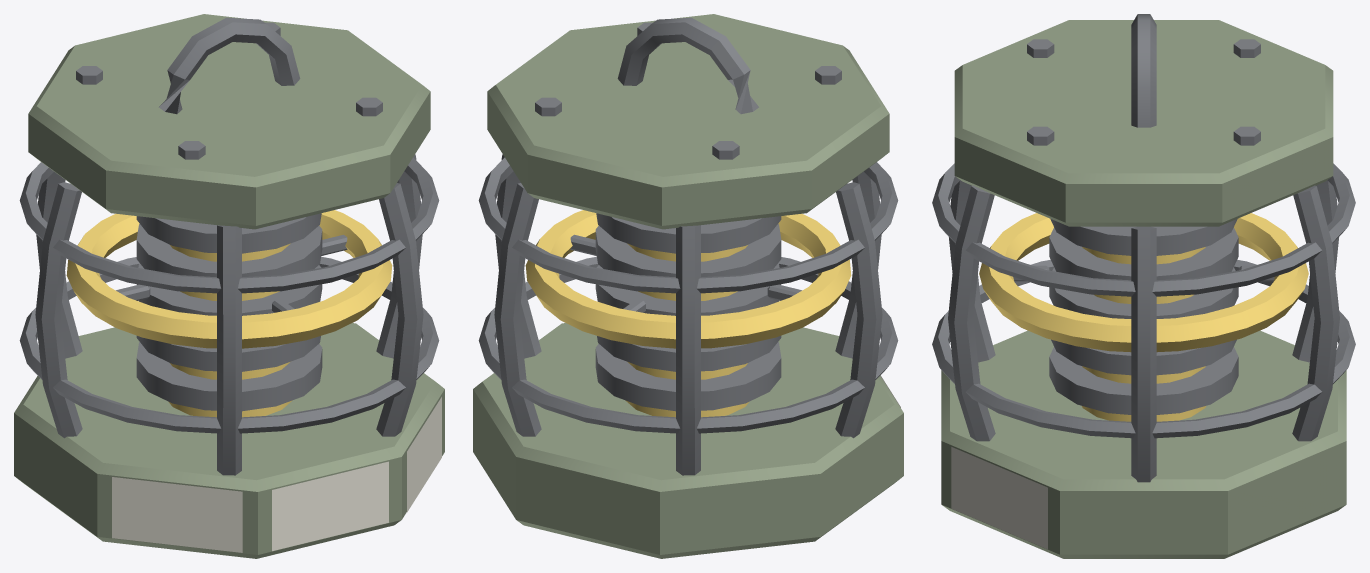
Rendered from Pickup_Shockwave.fbx.
3 views of the same model, side by side, from view 1: azimuth 30°, elevation 25°; view 2: azimuth 150°, elevation 25°; view 3: azimuth 270°, elevation 25° (orthographic).
Parts seen in each view (by area): view 1: Pickup_Shockwave; view 2: Pickup_Shockwave; view 3: Pickup_Shockwave.
Boxes of the visible parts, x1,y1,x2,y2 form: Pickup_Shockwave: (14, 14, 444, 558); Pickup_Shockwave: (473, 14, 903, 558); Pickup_Shockwave: (932, 14, 1355, 558).
Size of the model in its own units: 0.4565 by 0.5163 by 0.4344.
